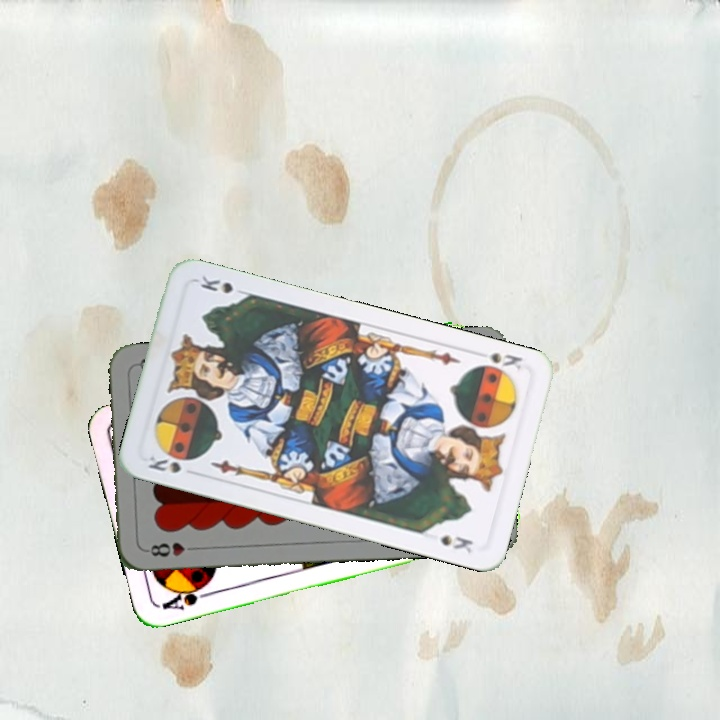H8: (142, 538, 201, 559)
SA: (158, 579, 215, 613)
SK: (144, 451, 184, 476), (486, 348, 525, 373)
